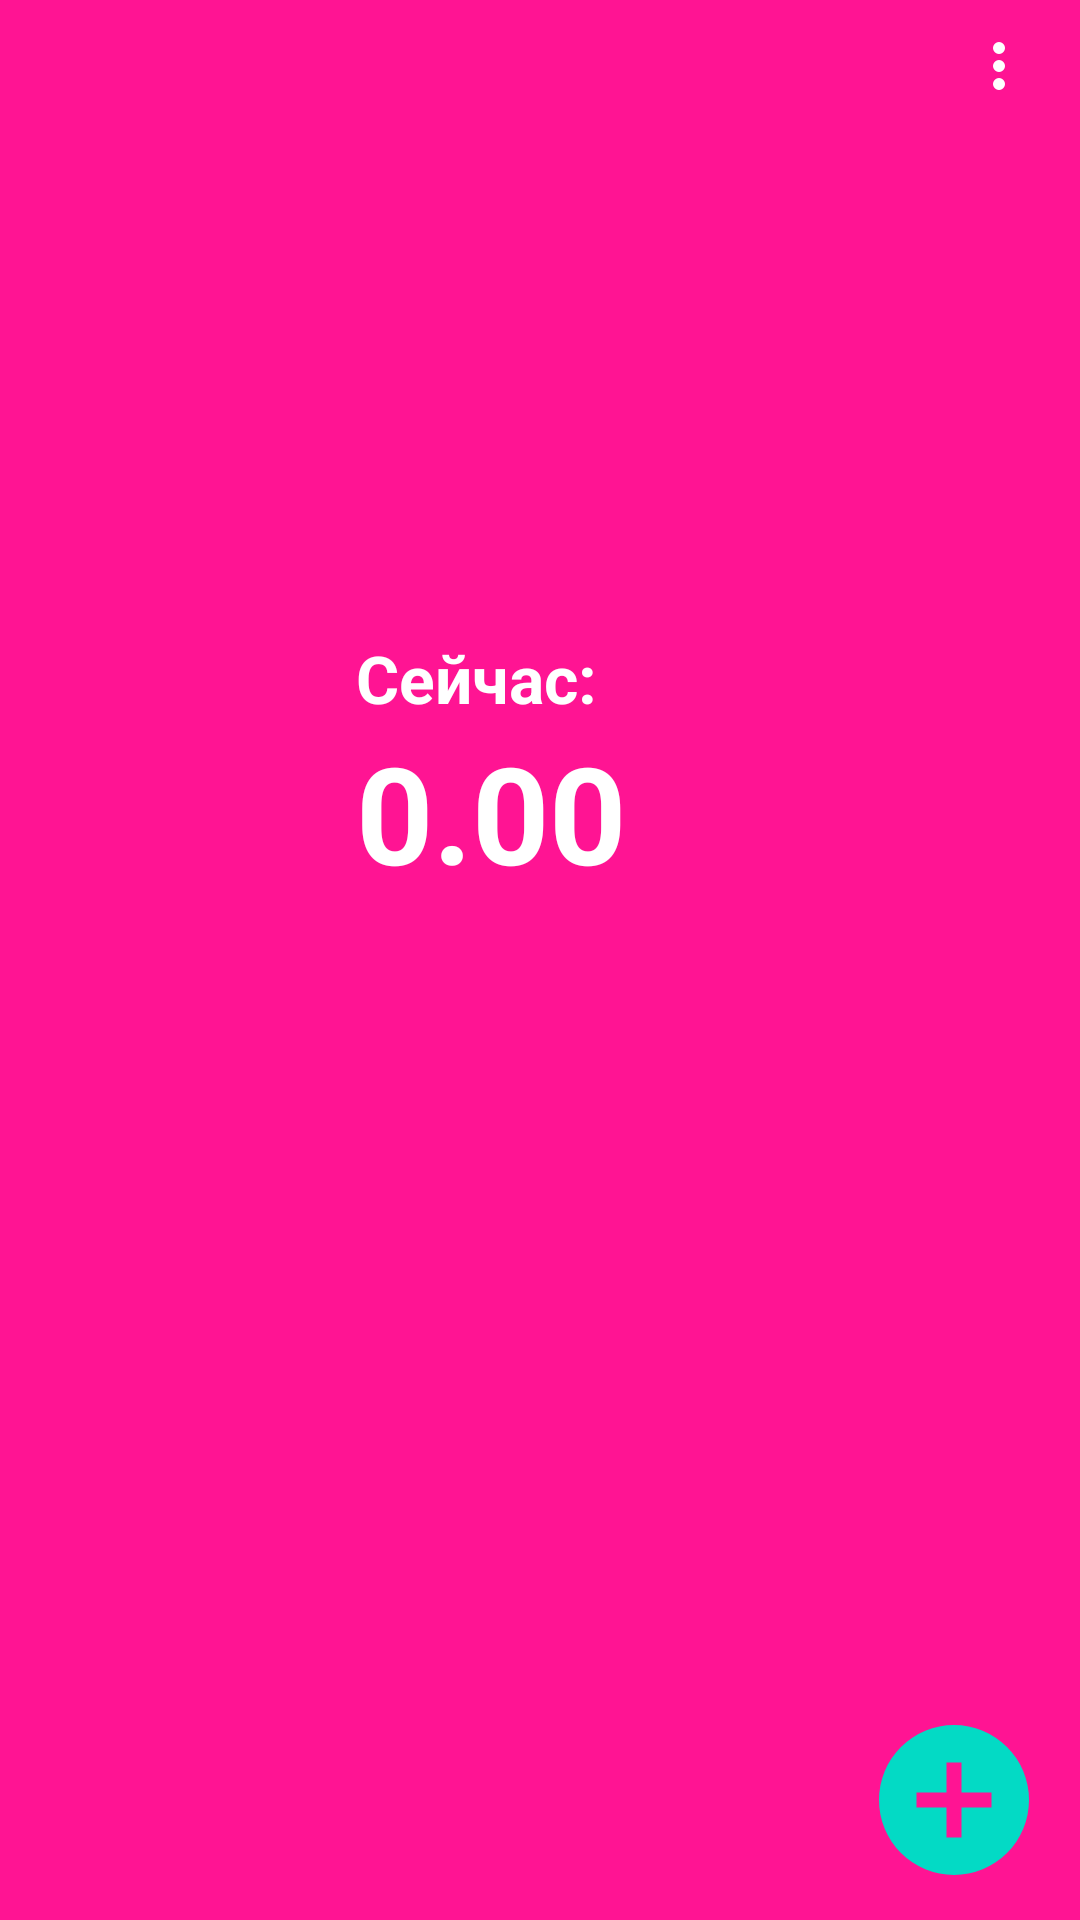

Icon bounding boxes for this 1080 x 1920 phone screenshot, format (x1, y1, x2, y2):
menu: (993, 42, 1005, 90)
plus: (879, 1725, 1029, 1875)
